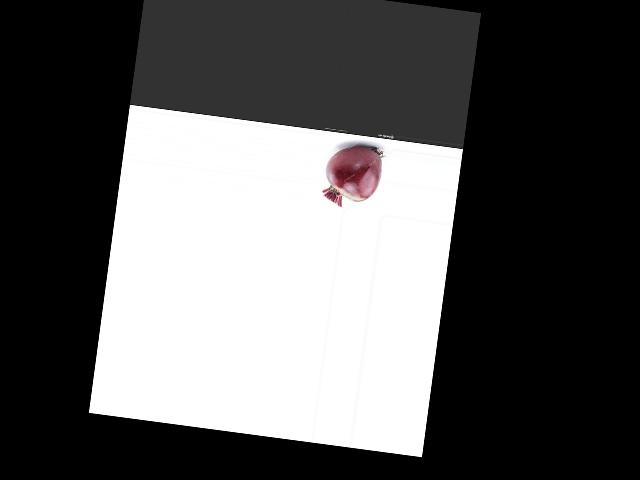beet: (320, 142, 384, 211)
